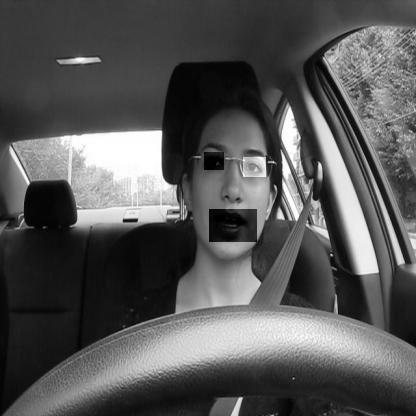seatbelt: (167, 64, 296, 416)
